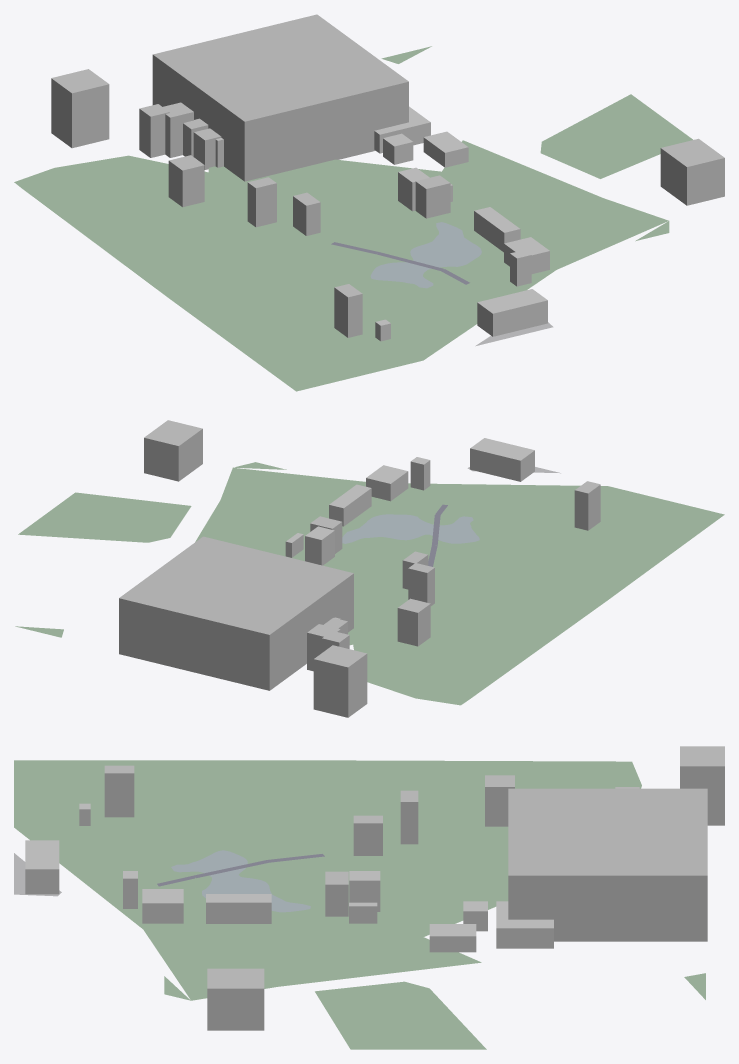
The model's file is 131_95_mid.glb.
3 renders of one model, top to bottom at view 1: azimuth 30°, elevation 25°; view 2: azimuth 150°, elevation 25°; view 3: azimuth 270°, elevation 25°, orthographic. The views are drawn at different scales.
Bounding box in the file's own units: 500 × 53.29 × 514.
